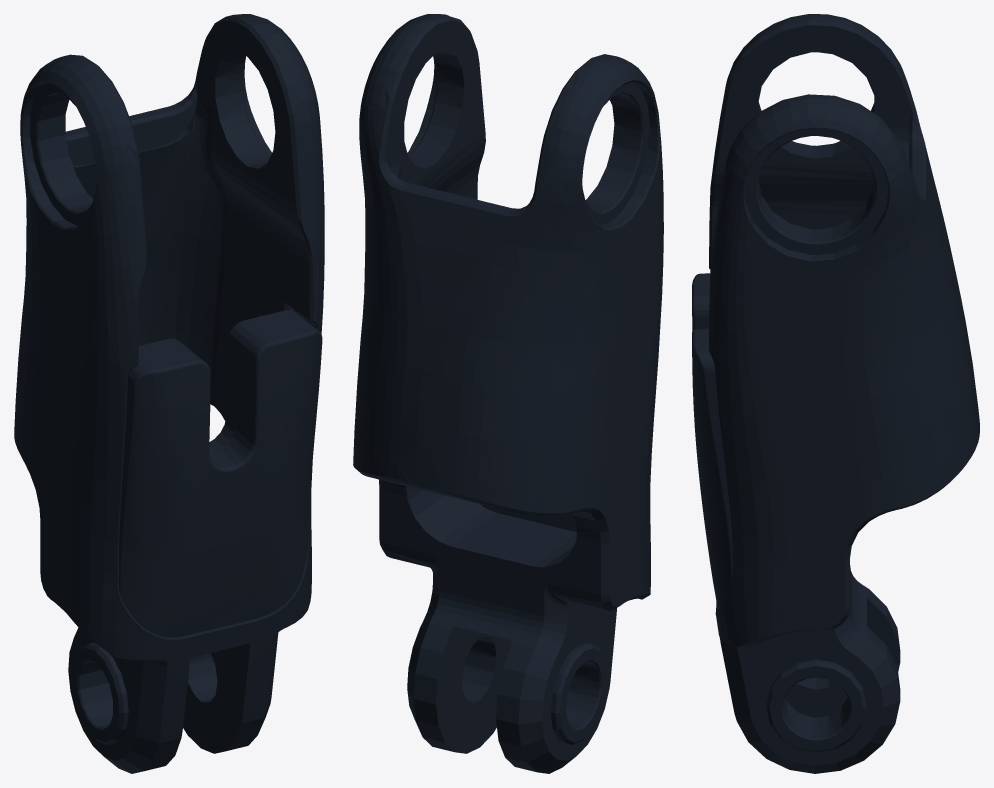
The model's file is L_index_prox.obj.
The picture shows the model from 3 angles, left to right: view 1: azimuth 30°, elevation 25°; view 2: azimuth 150°, elevation 25°; view 3: azimuth 270°, elevation 25°; orthographic projection. The views are drawn at different scales.
Parts seen in each view (by area): view 1: L_index_prox-mesh; view 2: L_index_prox-mesh; view 3: L_index_prox-mesh.
Part boxes in pixels (bbox=[...]): L_index_prox-mesh: bbox=[14, 14, 324, 773]; L_index_prox-mesh: bbox=[353, 14, 663, 773]; L_index_prox-mesh: bbox=[692, 14, 979, 773].
Bounding box in the file's own units: 0.0154 × 0.0455 × 0.0171.
